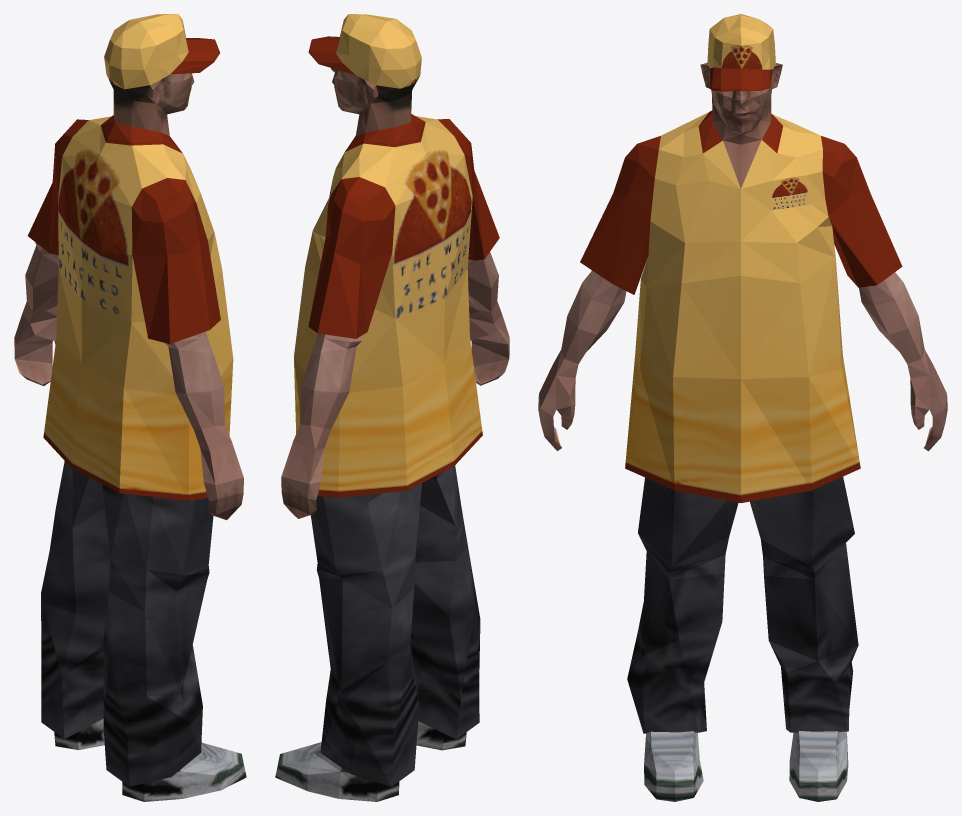
Rendered from wmypizz.obj.
The picture shows the model from 3 angles, left to right: view 1: azimuth 30°, elevation 25°; view 2: azimuth 150°, elevation 25°; view 3: azimuth 270°, elevation 25°; orthographic projection.
Parts seen in each view (by area): view 1: _Pelvis; view 2: _Pelvis; view 3: _Pelvis.
Boxes of the visible parts, bbox=[...] form: _Pelvis: bbox=[14, 14, 246, 801]; _Pelvis: bbox=[275, 14, 509, 801]; _Pelvis: bbox=[538, 14, 947, 801].
Size of the model in its own units: 0.3851 by 1.89 by 0.9308.
Materials: 1 (1 with a texture image).
